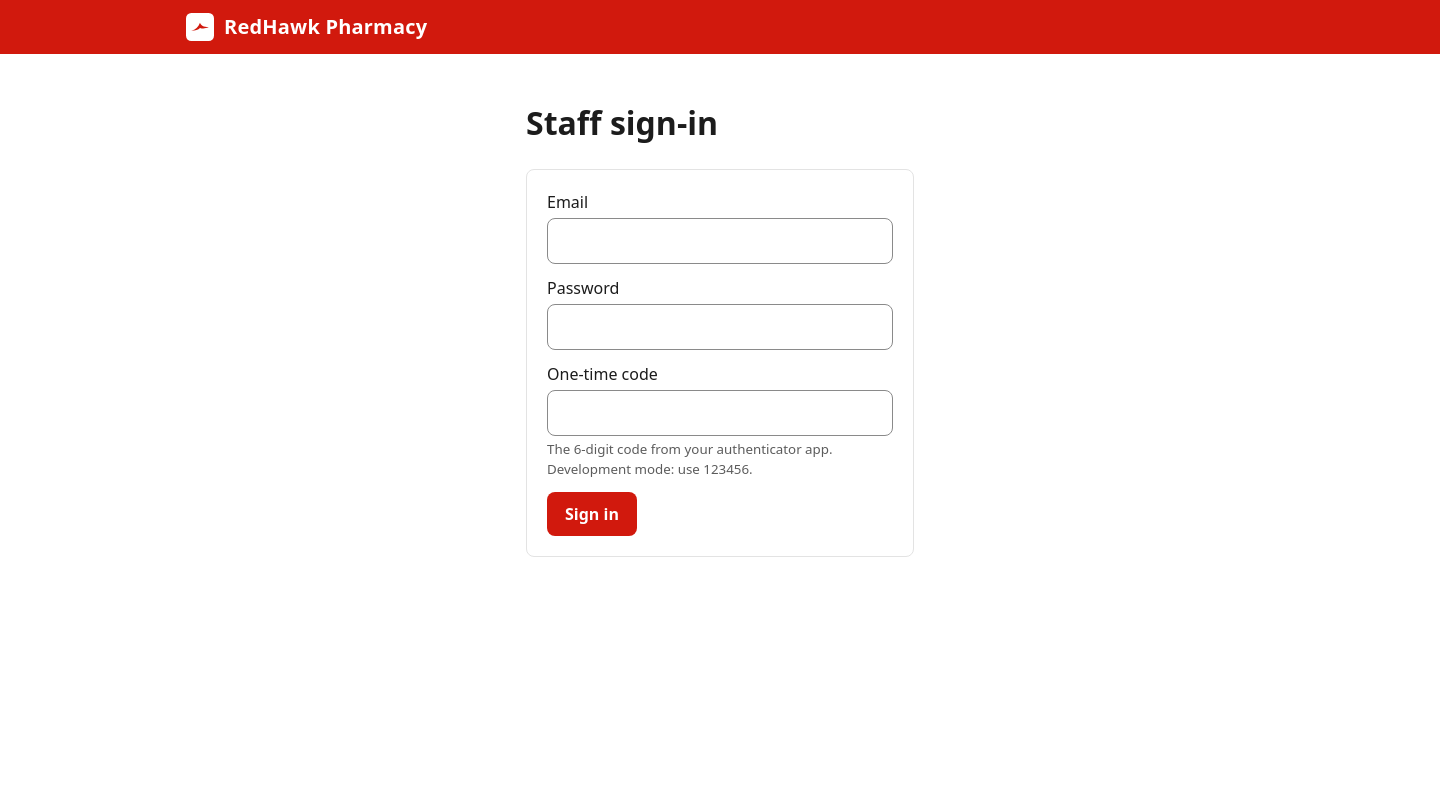
Test case: staff sign-in (F1) › shows the server's message when sign-in fails
The image size is (1440, 810).
Type "x@redhawk.test" into the field labelled "Email" at {"x": 720, "y": 241}, box [547, 218, 893, 264]
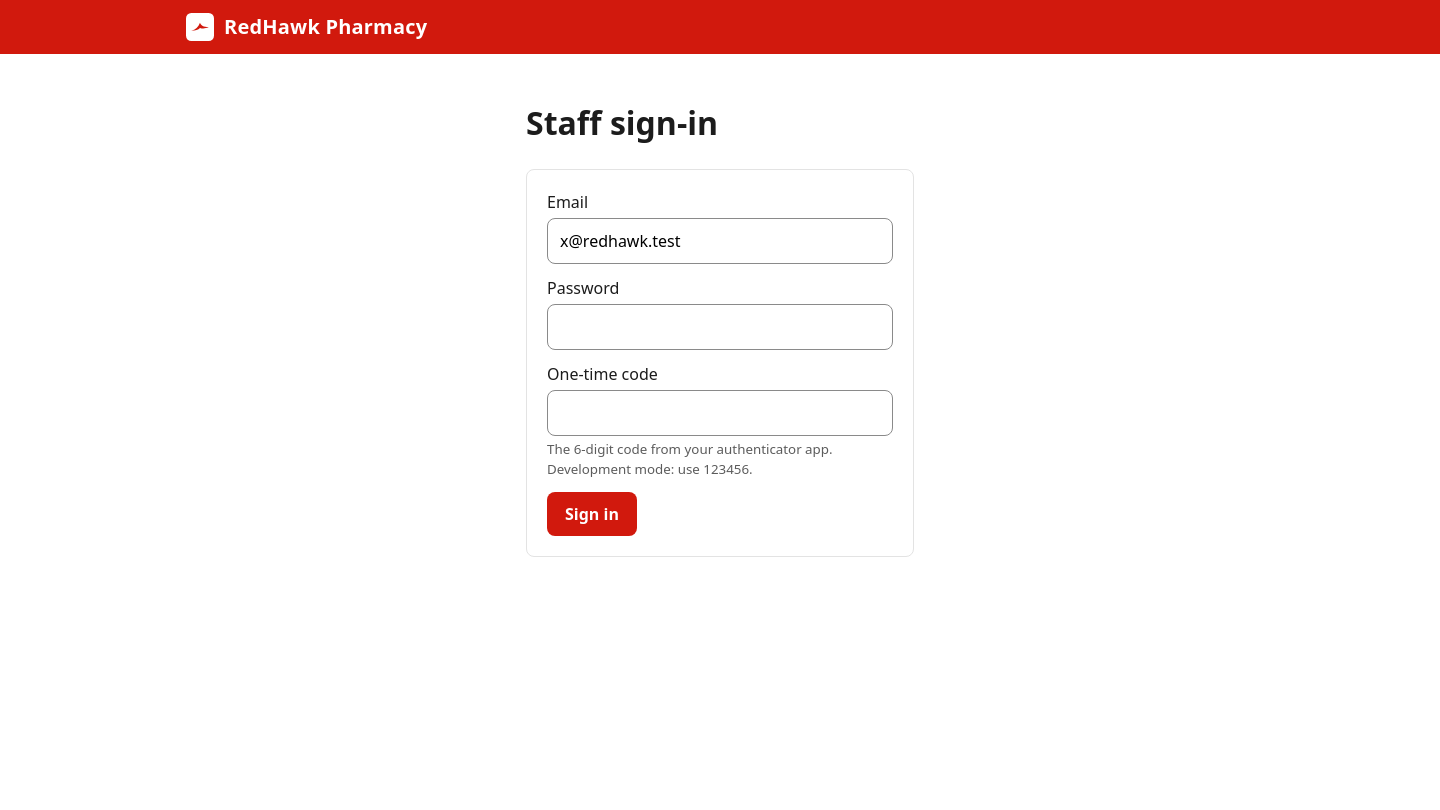
Type "nope" into the password field labelled "Password" at {"x": 720, "y": 327}, box [547, 304, 893, 350]
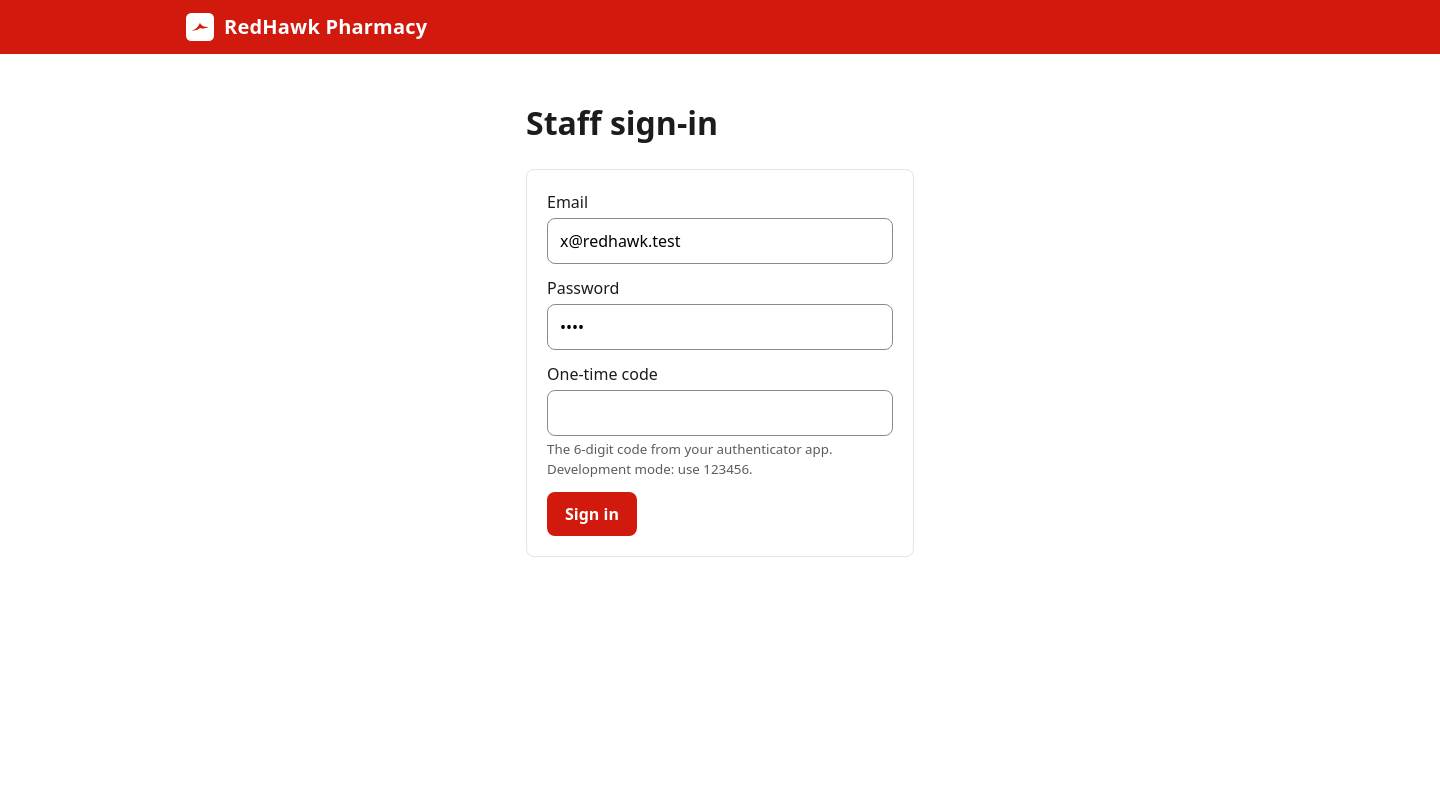
Type "000000" into the field labelled "One-time code" at {"x": 720, "y": 413}, box [547, 390, 893, 436]
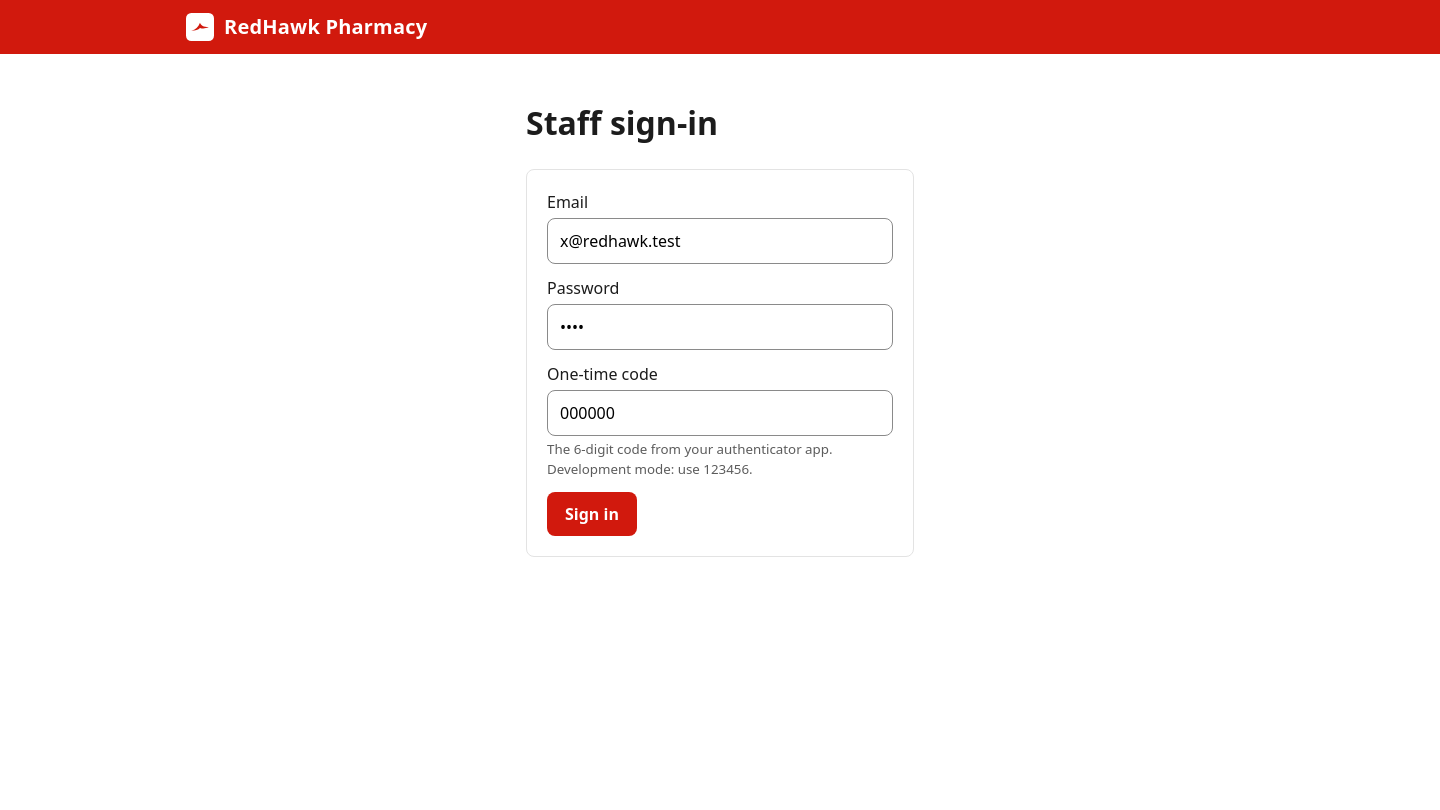
Click the button "Sign in" at {"x": 592, "y": 514}, box [547, 492, 637, 536]
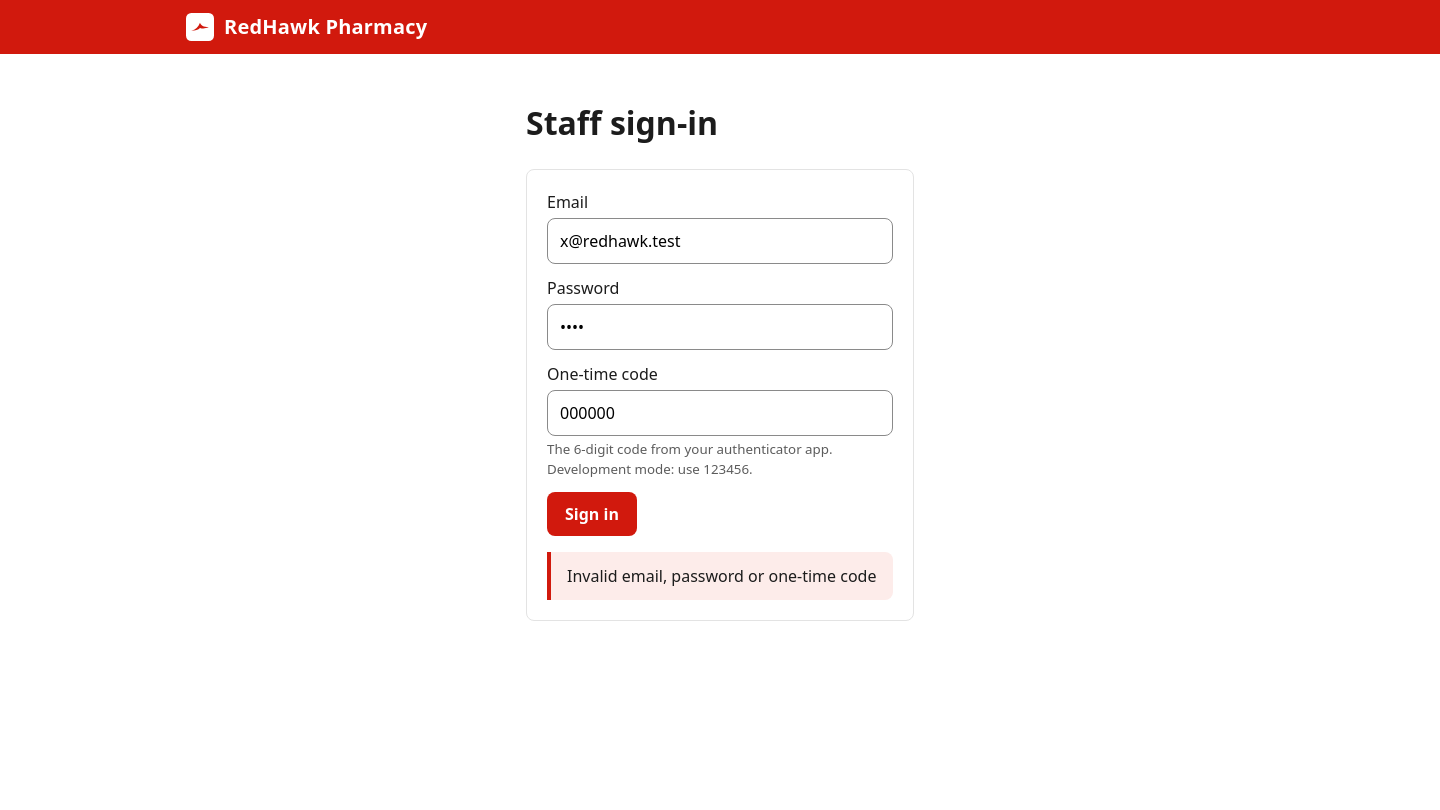
Result: the message reads "Invalid email, password or one-time code" at [567, 565, 876, 587]
